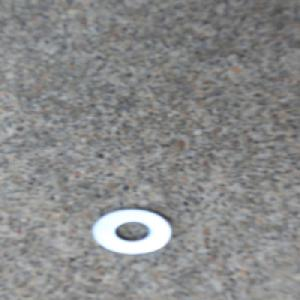Washer: (88, 207, 174, 257)
